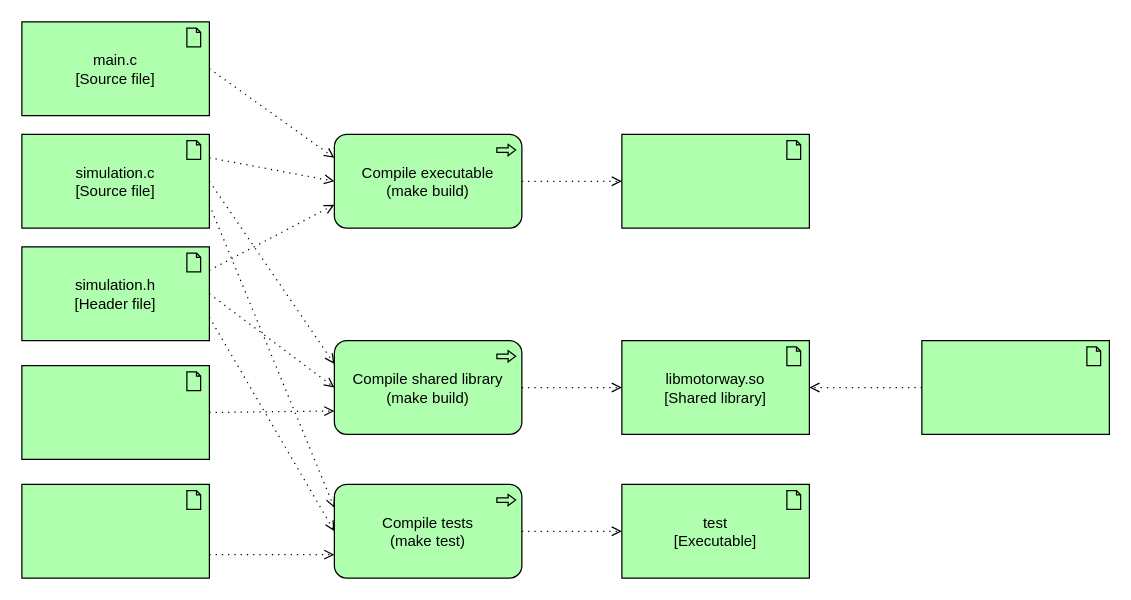
The diagram is 1131 pixels wide and 600 high, and some of its shapes have lost their labels. Each missing label, with the box of its shape:
analysis.py: (921, 339, 1109, 434)
lib.c [Source file]: (21, 364, 209, 459)
simulation [Executable]: (621, 133, 809, 228)
test.c [Source file]: (21, 483, 209, 578)
